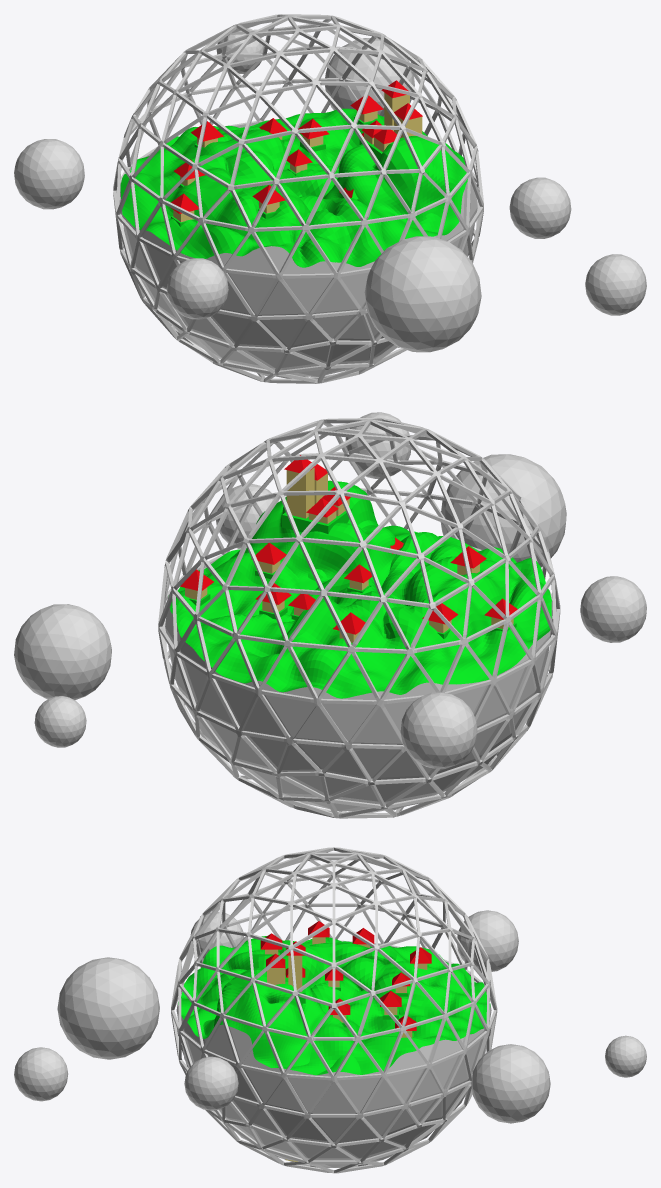
The model's file is village in heaven.glb.
3 renders of one model, top to bottom at view 1: azimuth 30°, elevation 25°; view 2: azimuth 150°, elevation 25°; view 3: azimuth 270°, elevation 25°, orthographic. The views are drawn at different scales.
Parts seen in each view (by area): view 1: Icosphere; view 2: Icosphere; view 3: Icosphere.
Boxes of the visible parts, box(x1,y1,x2,y2) form: Icosphere: box(14, 14, 646, 383); Icosphere: box(14, 412, 646, 818); Icosphere: box(14, 847, 646, 1173).
Size of the model in its own units: 72.81 by 57.79 by 112.
